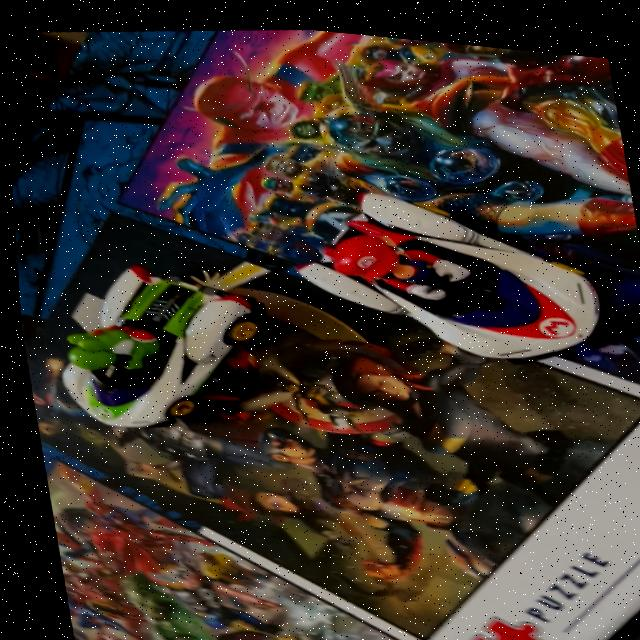mario: (275, 153, 638, 388)
yoshi: (11, 211, 291, 466)
